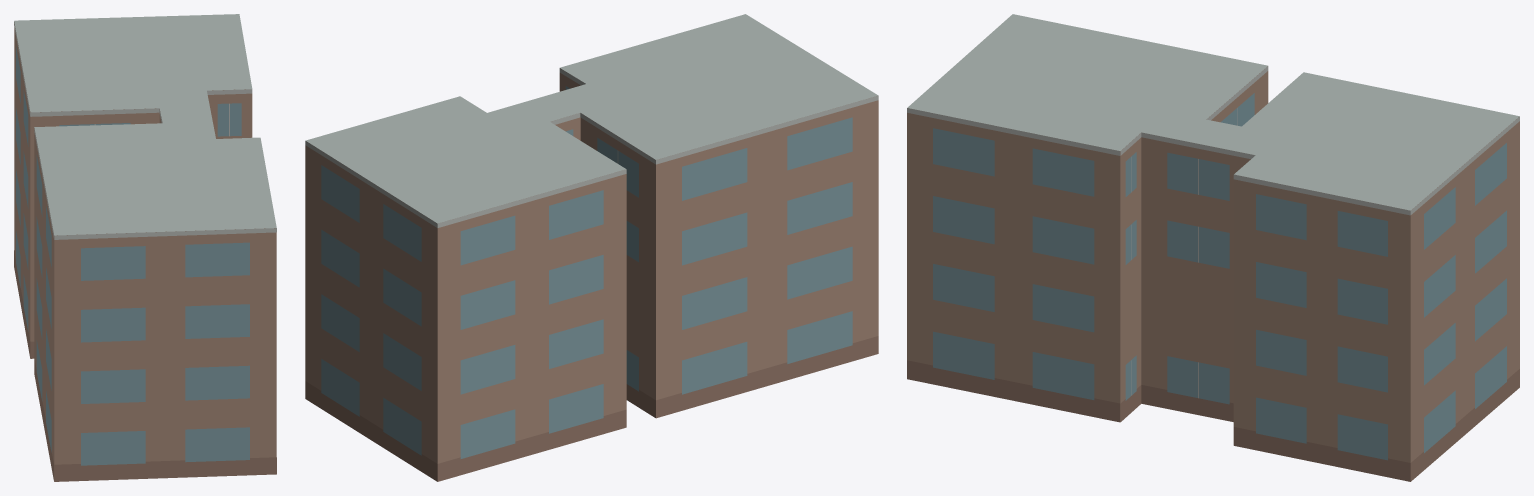
File: survey-upis-32990182.glb
3 renders of one model, left to right at view 1: azimuth 30°, elevation 25°; view 2: azimuth 150°, elevation 25°; view 3: azimuth 270°, elevation 25°, orthographic. The views are drawn at different scales.
Visible parts, largest first — view 1: survey-upis-32990182.tmp; view 2: survey-upis-32990182.tmp; view 3: survey-upis-32990182.tmp.
Part boxes in pixels (x1=…): survey-upis-32990182.tmp: x1=14, y1=14, x2=276, y2=481; survey-upis-32990182.tmp: x1=305, y1=14, x2=878, y2=481; survey-upis-32990182.tmp: x1=907, y1=14, x2=1519, y2=481.
Size of the model in its own units: 21.15 by 13.6 by 27.85.
